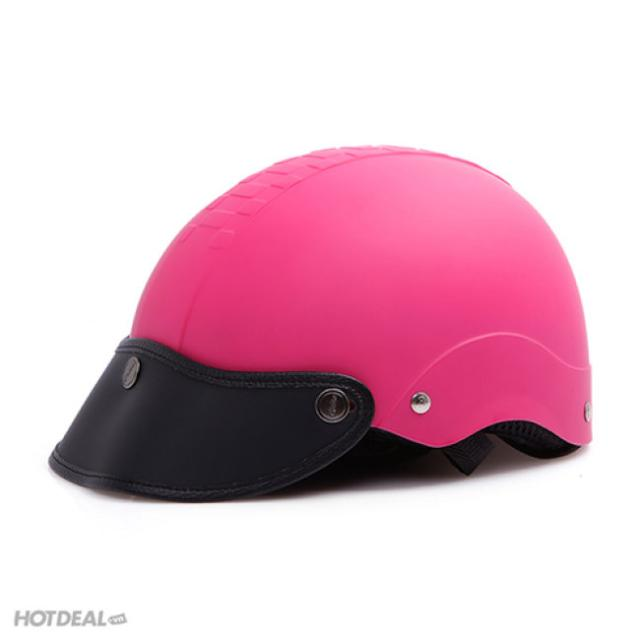Helmet: (46, 140, 597, 504)
